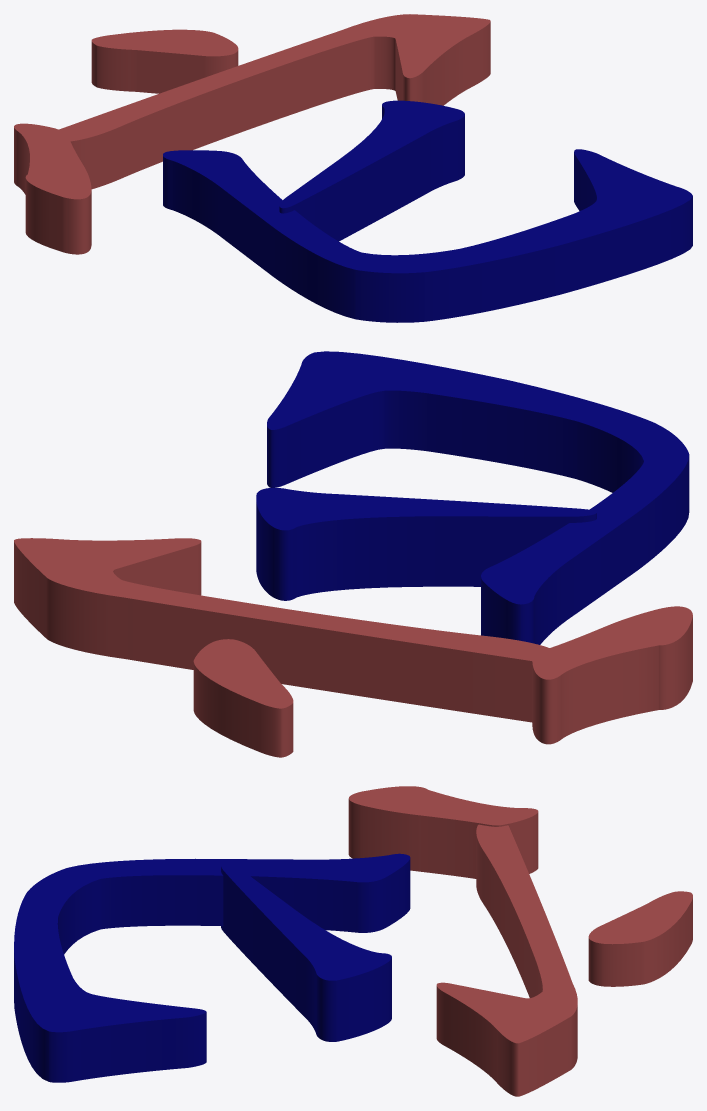
File: hanzi107.fbx
3 views of the same model, one above another, from view 1: azimuth 30°, elevation 25°; view 2: azimuth 150°, elevation 25°; view 3: azimuth 270°, elevation 25° (orthographic). The views are drawn at different scales.
Parts seen in each view (by area): view 1: Curve.004, Curve.002, Curve.003, Curve.001, Curve; view 2: Curve.004, Curve.002, Curve.003, Curve.001, Curve; view 3: Curve.004, Curve.002, Curve.003, Curve.001, Curve.
Part boxes in pixels (bbox=[...]): Curve.004: bbox=[163, 149, 692, 322]; Curve.002: bbox=[59, 14, 490, 189]; Curve.003: bbox=[279, 100, 464, 241]; Curve.001: bbox=[14, 123, 91, 254]; Curve: bbox=[91, 29, 238, 93]; Curve.004: bbox=[267, 351, 689, 644]; Curve.002: bbox=[14, 538, 549, 722]; Curve.003: bbox=[256, 488, 596, 600]; Curve.001: bbox=[532, 606, 692, 744]; Curve: bbox=[193, 639, 293, 757]; Curve.004: bbox=[14, 853, 410, 1082]; Curve.002: bbox=[436, 824, 577, 1096]; Curve.003: bbox=[221, 863, 391, 1041]; Curve.001: bbox=[348, 786, 538, 878]; Curve: bbox=[588, 891, 692, 986].
Size of the model in its own units: 21.08 by 23.65 by 2.36.
